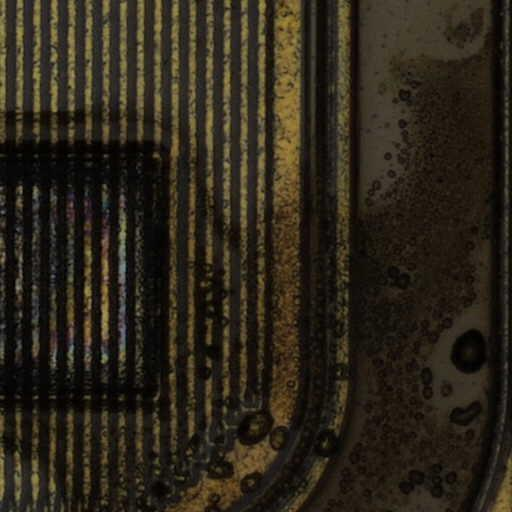SEZ BURNT: (1, 1, 512, 512)
